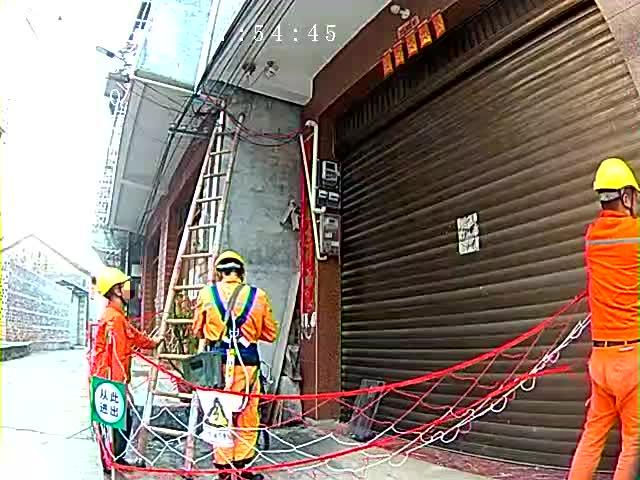halt: (595, 160, 640, 215), (98, 272, 137, 311), (217, 254, 251, 288)
inear: (619, 190, 638, 213)
